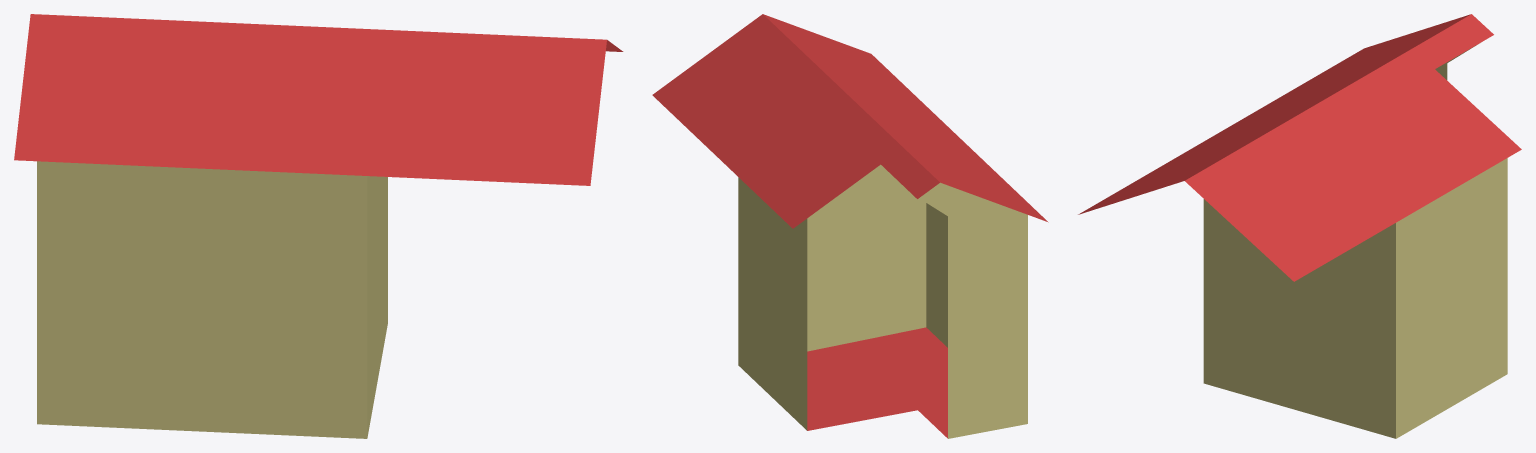
3 views of the same model, side by side, from view 1: azimuth 30°, elevation 25°; view 2: azimuth 150°, elevation 25°; view 3: azimuth 270°, elevation 25° (orthographic). The views are drawn at different scales.
Size of the model in its own units: 15.62 by 12.57 by 9.24.
